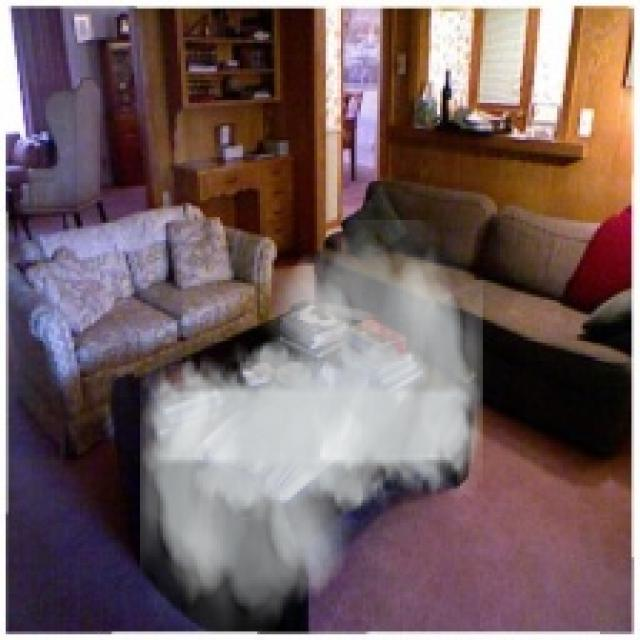smoke: (140, 220, 483, 631)
